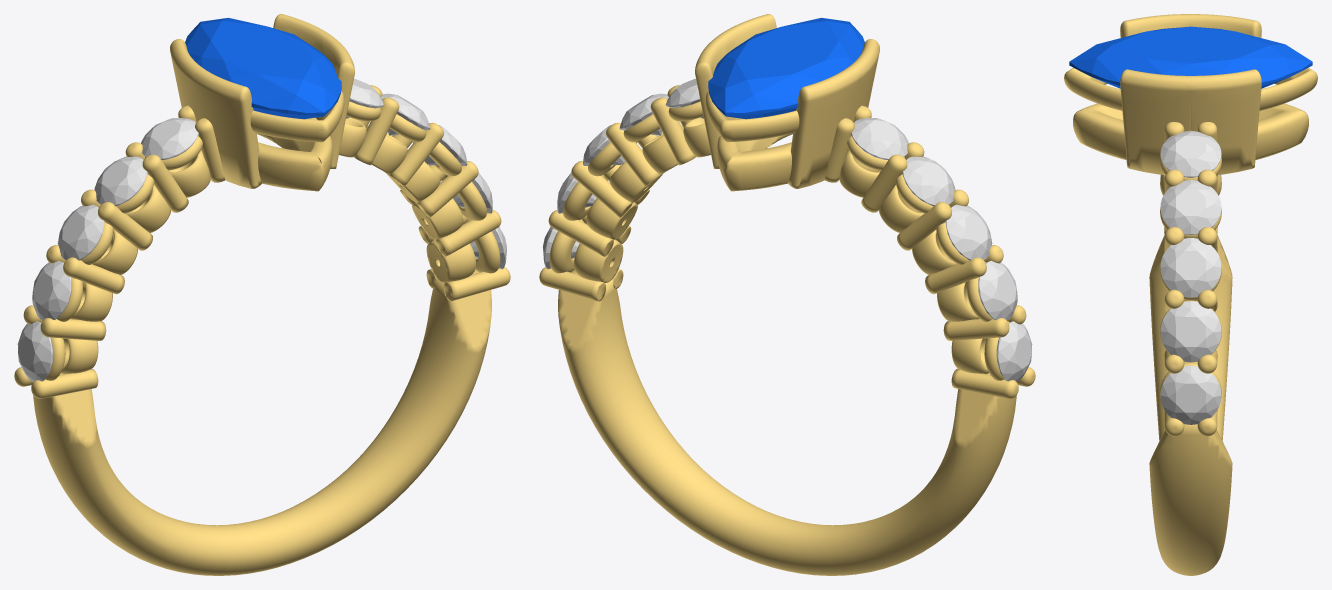
File: bluesapphire-marquise-yellowgold-halfmoonbezel-taperedband-11stone.glb
The picture shows the model from 3 angles, left to right: view 1: azimuth 30°, elevation 25°; view 2: azimuth 150°, elevation 25°; view 3: azimuth 270°, elevation 25°; orthographic projection.
Parts seen in each view (by area): view 1: metal.003, stone.002, dia.024, dia.025, dia.023, dia.026, dia.002, dia.030, dia.031; view 2: metal.003, stone.002, dia.024, dia.025, dia.023, dia.026, dia.002, dia.030, dia.031; view 3: metal.003, stone.002, dia.028, dia.029, dia.027, dia.030, dia.031.
Part boxes in pixels (x1,y1,x2,y2): metal.003: (14,14,510,575); stone.002: (185,17,341,119); dia.024: (57,204,104,260); dia.025: (94,156,147,206); dia.023: (32,260,71,320); dia.026: (141,118,198,159); dia.002: (17,321,53,381); dia.030: (381,93,430,135); dia.031: (346,78,384,118); metal.003: (539,14,1035,575); stone.002: (708,17,864,119); dia.024: (945,204,992,260); dia.025: (902,156,955,206); dia.023: (978,260,1017,320); dia.026: (851,118,908,159); dia.002: (996,321,1032,381); dia.030: (619,93,668,135); dia.031: (665,78,703,118); metal.003: (1064,14,1317,575); stone.002: (1069,26,1312,88); dia.028: (1160,301,1221,362); dia.029: (1160,238,1221,297); dia.027: (1160,365,1221,424); dia.030: (1160,180,1221,234); dia.031: (1160,130,1221,177).
Bounding box in the file's own units: 22.1 × 22.93 × 10.4.
